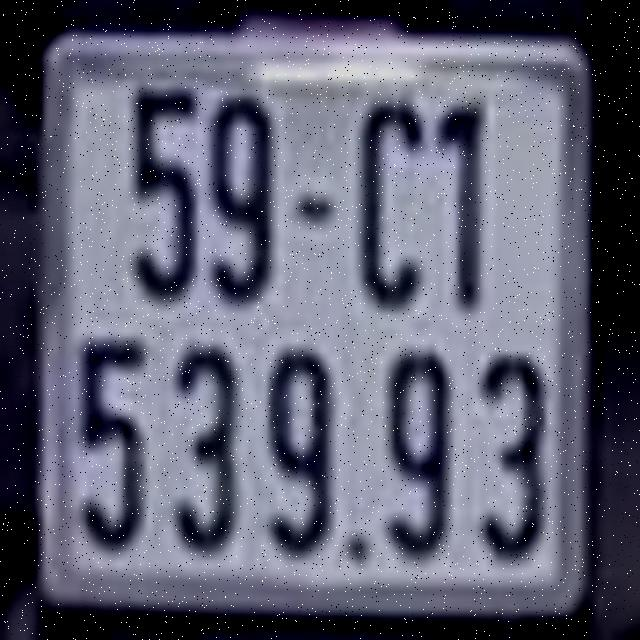1: (436, 99, 489, 312)
3: (480, 350, 546, 560), (174, 344, 237, 552)
5: (130, 87, 199, 300), (80, 338, 148, 550)
9: (210, 94, 272, 303), (387, 349, 449, 557), (268, 349, 330, 556)
C: (357, 98, 426, 309)
